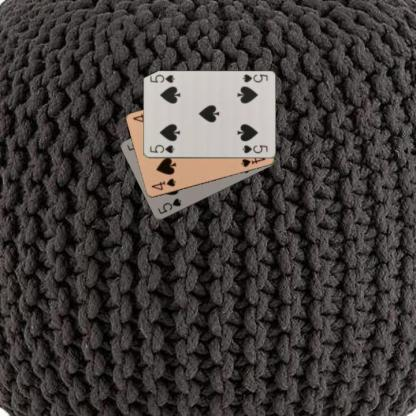4s: (148, 176, 177, 192)
5s: (155, 196, 182, 215), (147, 142, 176, 154), (240, 72, 269, 84)
